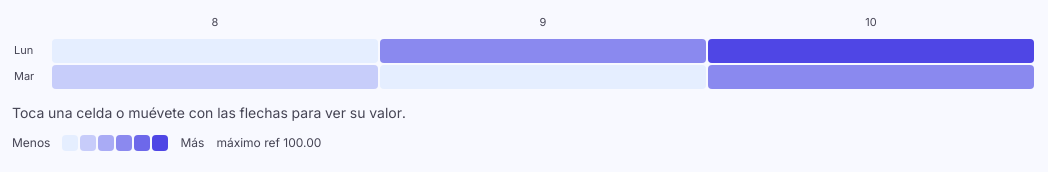
HeatmapChart · valor de la celda con dedo y teclado › tocar una celda muestra su valor exacto bajo el mapa
Click the 3rd button named "lunes, 10:00: ref 100.00".
click(871, 50)  # box [708, 38, 1034, 62]
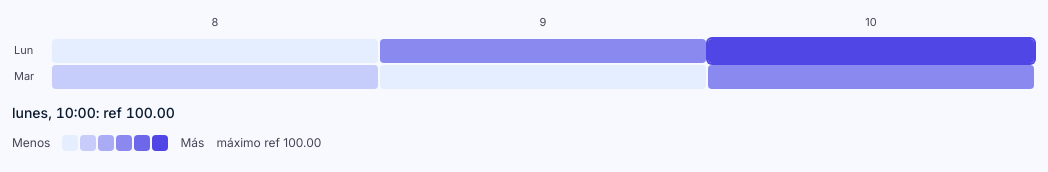
Result: the text with test id "heatmap-cell-detail" reads "lunes, 10:00: ref 100.00" at [12, 104, 175, 120]
